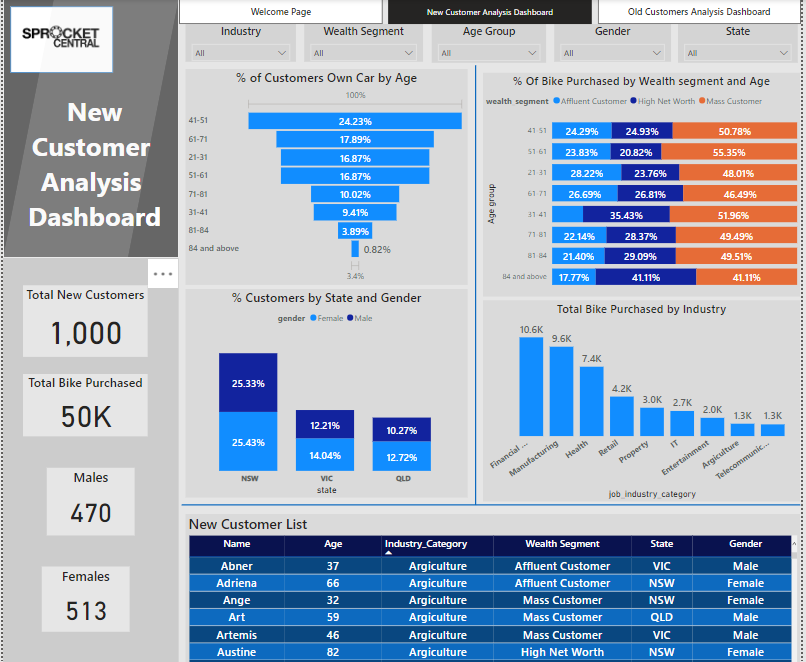

This screenshot's page, from the dashboard's own definition file:
{"tool":"powerbi","page":{"name":"New Customer Analysis Dashboard ","canvas":[1300,1200],"ordinal":1},"visuals":[{"type":"hundredPercentStackedBarChart","title":"% Of Bike Purchased by Wealth segment and Age","fields":{"Category":["NewCustomerList.Age group"],"Series":["NewCustomerList.wealth_segment"],"Y":["NewCustomerList.past_3_years_bike_related_purchases"]},"box":[783.3,120,516.7,365],"z":0},{"type":"columnChart","title":"%  Customers  by State and Gender","fields":{"Category":["NewCustomerList.state"],"Series":["NewCustomerList.gender"],"Y":["NewCustomerList.first_name"]},"box":[298.3,473.3,460,340],"z":1000},{"type":"funnel","title":"% of Customers Own Car by Age","fields":{"Category":["NewCustomerList.Age group"],"Y":["NewCustomerList.owns_car"]},"box":[298.3,115,460,351.7],"z":2000},{"type":"columnChart","title":"Total Bike Purchased by Industry","fields":{"Category":["NewCustomerList.job_industry_category"],"Y":["NewCustomerList.past_3_years_bike_related_purchases"]},"box":[783.3,490,516.7,328.3],"z":3000},{"type":"tableEx","title":"New Customer List","fields":{"Values":["NewCustomerList.first_name","NewCustomerList.Total Age","NewCustomerList.job_industry_category","NewCustomerList.wealth_segment","NewCustomerList.state","NewCustomerList.gender"]},"box":[298.3,840,1001.7,360],"z":4000},{"type":"shape","box":[0,0,286.7,1200],"z":5000},{"type":"card","title":"Total New Customers","fields":{"Values":["NewCustomerList.first_name"]},"box":[33.3,466.7,203.3,116.7],"z":6000},{"type":"slicer","title":"State","fields":{"Values":["NewCustomerList.state"]},"box":[1100,41.7,195,63.3],"z":7000},{"type":"card","title":"Total Bike Purchased","fields":{"Values":["NewCustomerList.Total Bike Purchase"]},"box":[33.3,611.7,203.3,101.7],"z":8000},{"type":"shape","box":[291.7,813.3,1008.3,23.3],"z":9000},{"type":"shape","box":[758.3,108.3,25,716.7],"z":10000},{"type":"shape","box":[0,0,286.7,421.7],"z":11000},{"type":"shape","box":[11.5,11.5,167.4,108.2],"z":12000},{"type":"image","box":[26,27.4,138.5,77.9],"z":13000},{"type":"textbox","box":[11.4,130,274.3,260],"z":14000},{"type":"shape","box":[0,0,286.7,421.7],"z":15000},{"type":"slicer","title":"Age Group","fields":{"Values":["NewCustomerList.Age group"]},"box":[698.3,41.7,186.7,63.3],"z":16000},{"type":"slicer","title":"Gender","fields":{"Values":["NewCustomerList.gender"]},"box":[898.3,41.7,190,61.7],"z":17000},{"type":"slicer","title":"Industry","fields":{"Values":["NewCustomerList.job_industry_category"]},"box":[298.3,41.7,180,61.7],"z":18000},{"type":"slicer","title":"Wealth Segment","fields":{"Values":["NewCustomerList.wealth_segment"]},"box":[491.7,41.7,193.3,61.7],"z":19000},{"type":"card","title":"Males","fields":{"Values":["NewCustomerList.gender"]},"box":[71.7,763.3,143.3,110],"z":20000},{"type":"card","title":"Females","fields":{"Values":["NewCustomerList.gender"]},"box":[63.3,925,143.3,106.7],"z":21000},{"type":"pageNavigator","box":[286.7,0,1013.3,41.7],"z":22000}]}

Visuals, with their boxes on the page's 1300x1200 design canvas (x1, y1, x2, y2). These are canvas units, not pixel positions in the 806x662 screenshot, which may show the page scaled, cropped or inside an application window:
"% Of Bike Purchased by Wealth segment and Age" hundredPercentStackedBarChart: BBox(783, 120, 1300, 485)
"%  Customers  by State and Gender" columnChart: BBox(298, 473, 758, 813)
"% of Customers Own Car by Age" funnel: BBox(298, 115, 758, 467)
"Total Bike Purchased by Industry" columnChart: BBox(783, 490, 1300, 818)
"New Customer List" tableEx: BBox(298, 840, 1300, 1200)
shape: BBox(0, 0, 287, 1200)
"Total New Customers" card: BBox(33, 467, 237, 583)
"State" slicer: BBox(1100, 42, 1295, 105)
"Total Bike Purchased" card: BBox(33, 612, 237, 713)
shape: BBox(292, 813, 1300, 837)
shape: BBox(758, 108, 783, 825)
shape: BBox(0, 0, 287, 422)
shape: BBox(12, 12, 179, 120)
image: BBox(26, 27, 164, 105)
textbox: BBox(11, 130, 286, 390)
shape: BBox(0, 0, 287, 422)
"Age Group" slicer: BBox(698, 42, 885, 105)
"Gender" slicer: BBox(898, 42, 1088, 103)
"Industry" slicer: BBox(298, 42, 478, 103)
"Wealth Segment" slicer: BBox(492, 42, 685, 103)
"Males" card: BBox(72, 763, 215, 873)
"Females" card: BBox(63, 925, 207, 1032)
pageNavigator: BBox(287, 0, 1300, 42)
